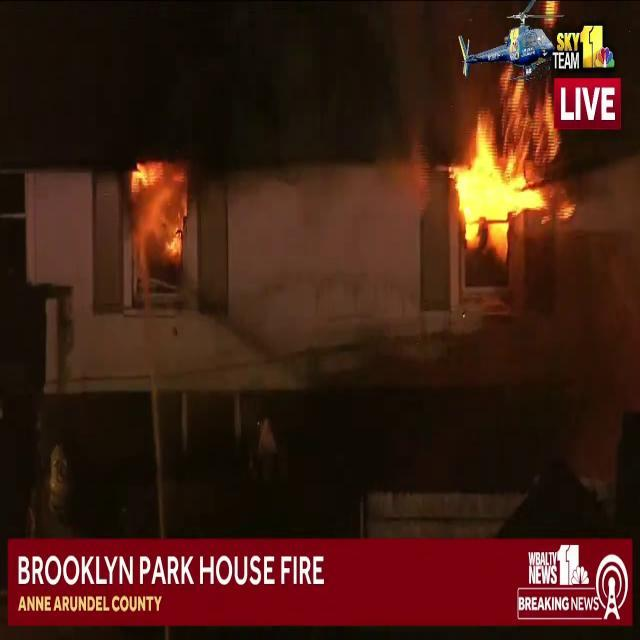Fire: (444, 80, 564, 244), (125, 154, 198, 264)
